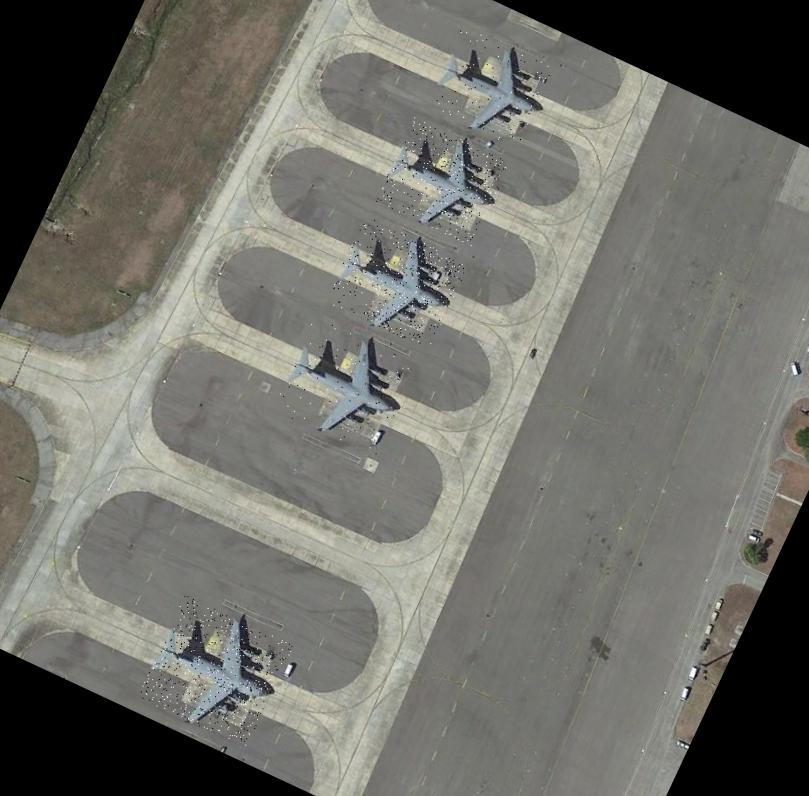A3: (136, 594, 294, 748), (269, 315, 419, 458), (324, 215, 468, 350), (375, 117, 511, 246), (425, 24, 558, 150)
